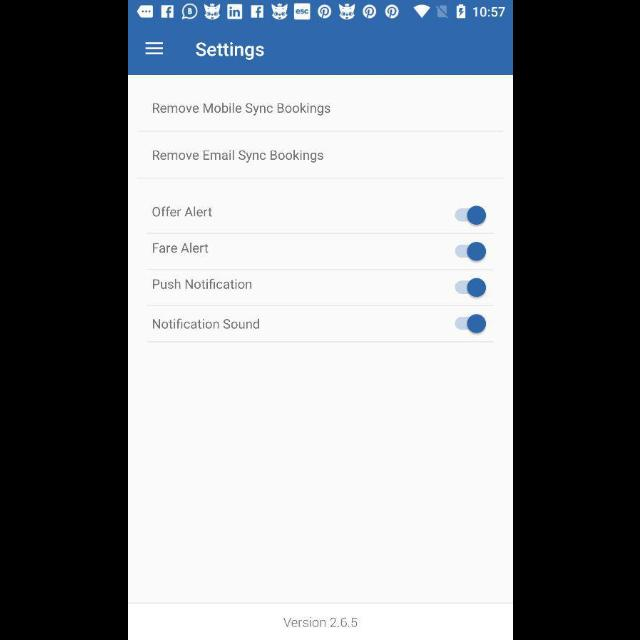icon: (144, 42, 162, 56)
switch: (454, 314, 486, 336), (454, 278, 486, 298), (454, 242, 486, 262), (454, 206, 486, 226)
text: (152, 103, 330, 117), (152, 150, 324, 164), (196, 42, 264, 62), (153, 318, 260, 330), (152, 278, 252, 290), (282, 616, 356, 628), (152, 206, 212, 218), (152, 242, 208, 254)
uppertaskbar: (128, 1, 512, 23)
